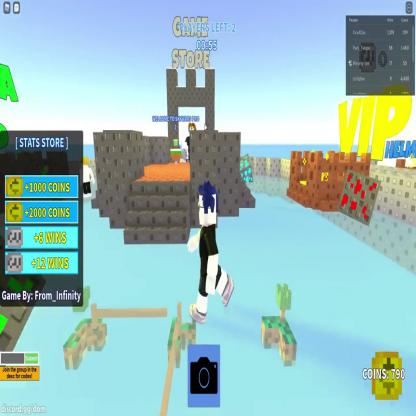Roblox-Avatar: (188, 181, 236, 325)
